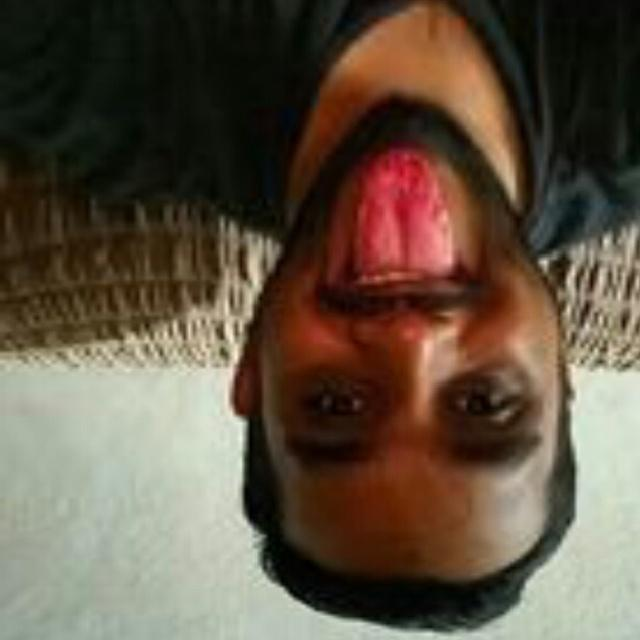Happy: (145, 53, 595, 592)
